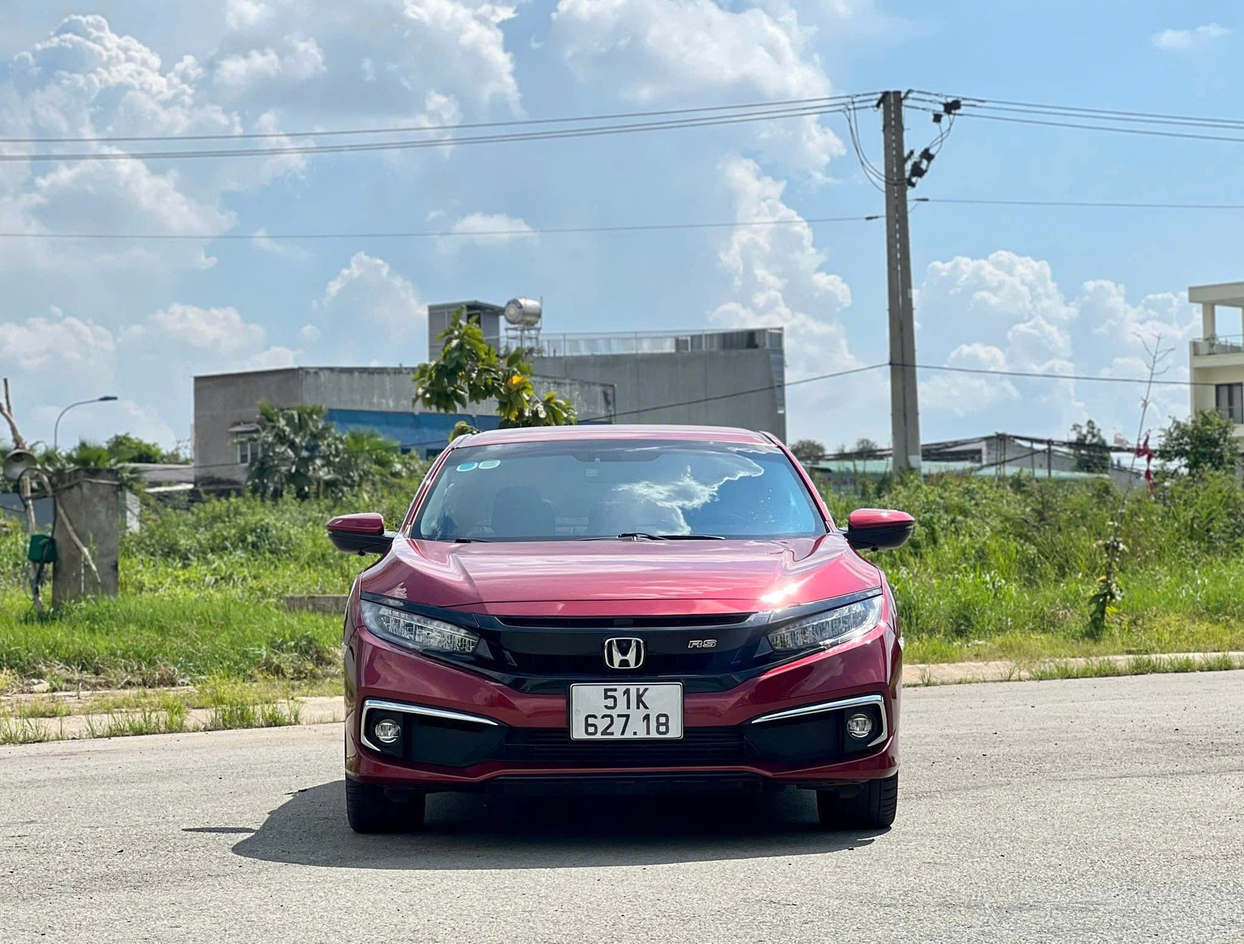Bien-so: (565, 678, 683, 741)
